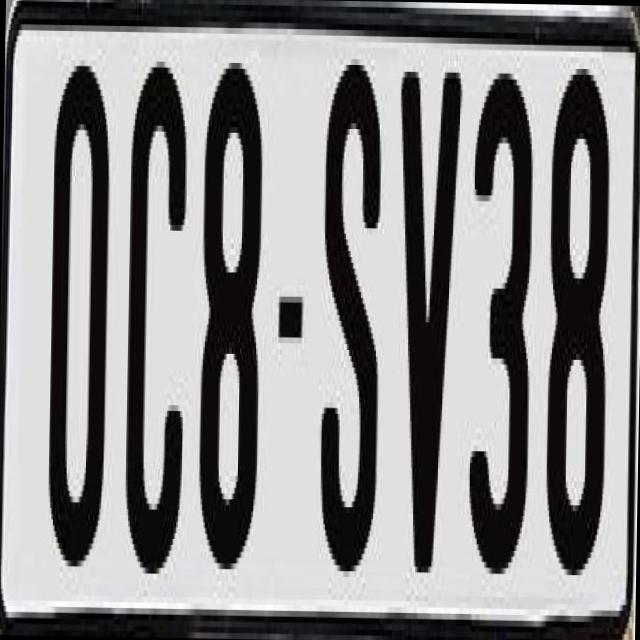0: (42, 54, 115, 566)
3: (468, 72, 540, 586)
8: (192, 61, 259, 598), (540, 67, 606, 598)
C: (124, 54, 188, 586)
S: (317, 46, 389, 588)
V: (392, 71, 462, 578)
